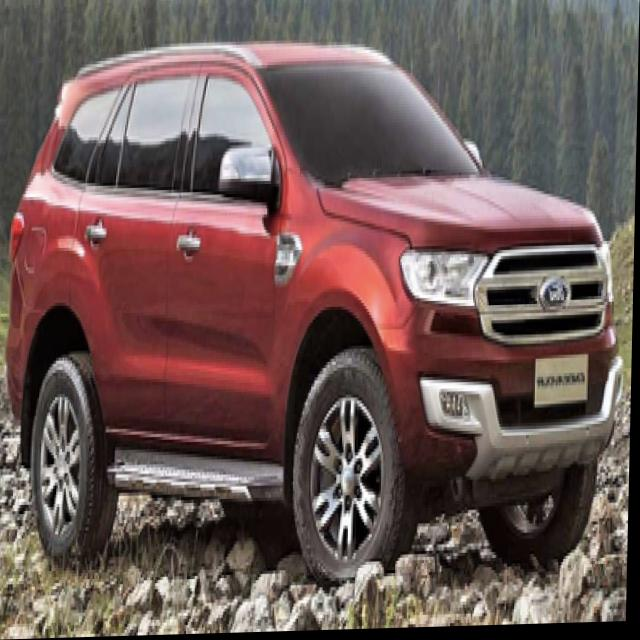licence: (532, 361, 595, 402)
